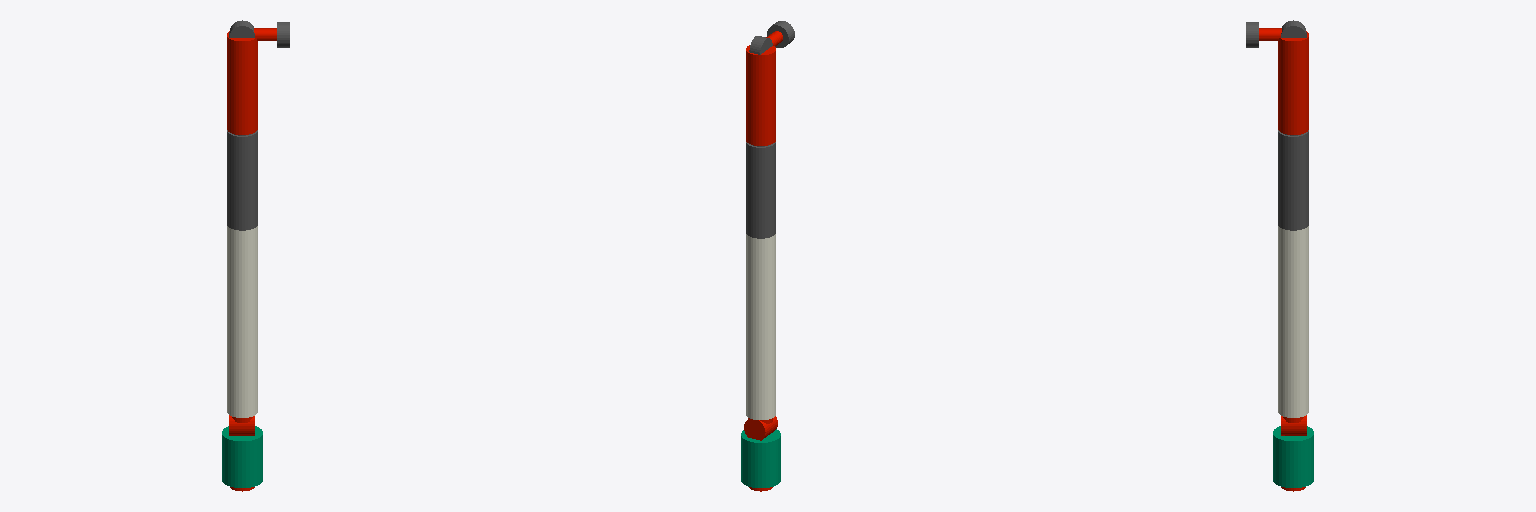
The robot description file, URDF, robot "prosthetic":
<?xml version="1.0" encoding="utf-8"?>
<robot name="prosthetic" >



<material name="scarlet">
    <color rgba="0.89 0.13 0.0 1"/>
</material>
<material name="grey">
    <color rgba="0.4 0.4 0.4 1.0"/>
</material>
 <material name="silver">
    <color rgba="0.913725490196 0.913725490196 0.847058823529 1.0"/>
  </material>

 

  <link name="link0">
    <inertial>
      <origin rpy="0 0 0" xyz="0 0 0"/>
       <mass value=".01"/>
       <inertia ixx="0" ixy="0" ixz="0" iyy="0" iyz="0" izz="0"/>
    </inertial>
    <visual>
      <origin rpy="1.5707  0 0" xyz="0 0 0"/>
      <geometry>
        <cylinder radius="0.025" length="0.025"/>
      </geometry>
       <material name="grey"/>
    </visual>
    <collision>
      <origin rpy="1.5707 0 0" xyz="0 0 0"/>
      <geometry>
        <cylinder radius="0.025" length="0.025"/>
      </geometry>
    </collision>
  </link>

  <link name="link1">
    <inertial>
      <origin rpy="0 0 0" xyz="0 0 0"/>
       <mass value=".000000001"/>
       <inertia ixx="0" ixy="0" ixz="0" iyy="0" iyz="0" izz="0"/>
    </inertial>
    <visual>
      <origin rpy="1.5707 0 0" xyz="0 0 0"/>
      <geometry>
       <cylinder radius="0.0125" length="0.08"/>
       <!-- <box size = "0.025 0.08 0.025"/> -->
      </geometry>
       <material name="scarlet"/> 
    </visual>
    <collision>
      <origin rpy="1.5707 0 0" xyz="0 0 0"/>
      <geometry>
       <cylinder radius="0.0125" length="0.08"/>
      </geometry>
    </collision>
  </link>

  <joint name="joint1" type="revolute"> 
    <parent link="link0"/>
    <child link="link1"/>
    <origin rpy="0 0 0" xyz="0 0.04 0.0"/>  
    <axis xyz="0 1 0"/>
    <limit lower="-3.1415" upper="3.1415" effort="1.4" velocity="0.25"/>
  </joint>

  <link name="left_jlink1">
    <inertial>
      <origin rpy="0 0 0" xyz="0 0 0"/>
       <mass value=".01"/>
       <inertia ixx="0" ixy="0" ixz="0" iyy="0" iyz="0" izz="0"/>
    </inertial>
    <visual>
      <origin rpy="0 1.5707 0" xyz="0 0 0"/>
      <geometry>
        <cylinder radius="0.025" length="0.025"/>
      </geometry>
       <material name="grey"/>
    </visual>
    <collision>
      <origin rpy="0 1.5707 0" xyz="0 0 0"/>
      <geometry>
        <cylinder radius="0.025" length="0.025"/>
      </geometry>
    </collision>
</link>

  <joint name="joint2" type="revolute">
    <parent link="link1"/>
    <child link="left_jlink1"/>
    <origin rpy="0 0 0" xyz="0 0.04 0"/> 
    <axis xyz="1 0 0"/>
    <limit lower="-3.1415" upper="3.1415" effort="1.4" velocity="0.25"/>  
  </joint>

  <link name="link2">
    <inertial>
      <origin rpy="0 0 0" xyz="0 0 0"/>
       <mass value=".000000001"/>
       <inertia ixx="0" ixy="0" ixz="0" iyy="0" iyz="0" izz="0"/>
    </inertial>
    <visual>
      <origin rpy="0 0 0" xyz="0 0 0"/>
      <geometry>
       <cylinder radius="0.03" length="0.2"/>
      </geometry>
       <material name="scarlet"/> 
    </visual>
    <collision>
      <origin rpy="0 0 0" xyz="0 0 0"/>
      <geometry>
       <cylinder radius="0.03" length="0.2"/>
      </geometry>
    </collision>
</link>

<joint name="left_joint2f" type="fixed">
    <parent link="left_jlink1"/>
    <child link="link2"/>
    <origin rpy="0 0 0" xyz="0 0  -0.1"/> 
     
</joint>

<link name="left_jlink2">
    <inertial>
      <origin rpy="0 0 0" xyz="0 0 0"/>
       <mass value=".01"/>
       <inertia ixx="0" ixy="0" ixz="0" iyy="0" iyz="0" izz="0"/>
    </inertial>
    <visual>
      <origin rpy="0 0 0" xyz="0 0 0"/>
      <geometry>
        <cylinder radius="0.025" length="0.025"/>
      </geometry>
       <material name="grey"/>
    </visual>
    <collision>
      <origin rpy="0 0 0" xyz="0 0 0"/>
      <geometry>
        <cylinder radius="0.025" length="0.025"/>
      </geometry>
    </collision>
</link>

<joint name="left_joint2" type="fixed">
    <parent link="link2"/>
    <child link="left_jlink2"/>
    <origin rpy="0 0 0" xyz="0 0 -0.1"/> 
     
  </joint>

  <link name="link3">
    <inertial>
      <origin rpy="0 0 0" xyz="0 0 0"/>
       <mass value=".000000001"/>
       <inertia ixx="0" ixy="0" ixz="0" iyy="0" iyz="0" izz="0"/>
    </inertial>
    <visual>
      <origin rpy="0 0 0" xyz="0 0 0"/>
      <geometry>
       <cylinder radius="0.03" length="0.2"/>
      </geometry>
       <material name="grey"/> 
    </visual>
    <collision>
      <origin rpy="0 0 0" xyz="0 0 0"/>
      <geometry>
       <cylinder radius="0.03" length="0.2"/>
      </geometry>
    </collision>
</link>

<joint name="left_joint3f" type="fixed">
    <parent link="left_jlink2"/>
    <child link="link3"/>
    <origin rpy="0 0 0" xyz="0 0  -0.1035"/>   
</joint>

<link name="left_jlink3">
    <inertial>
      <origin rpy="0 0 0" xyz="0 0 0"/>
       <mass value=".01"/>
       <inertia ixx="0" ixy="0" ixz="0" iyy="0" iyz="0" izz="0"/>
    </inertial>
    <visual>
      <origin rpy="0 1.5707 0" xyz="0 0 0"/>
      <geometry>
        <cylinder radius="0.025" length="0.025"/>
      </geometry>
       <material name="scarlet"/>
    </visual>
    <collision>
      <origin rpy="0 1.5707 0" xyz="0 0 0"/>
      <geometry>
        <cylinder radius="0.025" length="0.025"/>
      </geometry>
    </collision>
</link>

<joint name="joint3" type="revolute">
    <parent link="link3"/>
    <child link="left_jlink3"/>
    <origin rpy="0 0 0" xyz="0 0.0 -0.1"/> 
    <axis xyz="1 0 0"/>
    <limit lower="-3.1415" upper="3.1415" effort="1.4" velocity="0.25"/>  
  </joint>

  <link name="link4">
    <inertial>
      <origin rpy="0 0 0" xyz="0 0 0"/>
       <mass value=".000000001"/>
       <inertia ixx="0" ixy="0" ixz="0" iyy="0" iyz="0" izz="0"/>
    </inertial>
    <visual>
      <origin rpy="0 0 0" xyz="0 0 0"/>
      <geometry>
       <cylinder radius="0.03" length="0.4"/>
      </geometry>
       <material name="silver"/> 
    </visual>
    <collision>
      <origin rpy="0 0 0" xyz="0 0 0"/>
      <geometry>
       <cylinder radius="0.03" length="0.4"/>
      </geometry>
    </collision>
</link>

<joint name="left_joint4f" type="fixed">
    <parent link="left_jlink3"/>
    <child link="link4"/>
    <origin rpy="0 0 0" xyz="0 0  -0.2"/>   
</joint>

<link name="left_jlink4">
    <inertial>
      <origin rpy="0 0 0" xyz="0.107996 0.000521 -0.017765"/>
      <mass value="0.550582"/>
      <inertia ixx="0.000476" ixy="-2.9e-05" ixz="0.001403" iyy="0.009564" iyz="-1.5e-05" izz="-9e-06"/>
    </inertial>
    <visual>
      <origin rpy="0 0 0 " xyz="0 0 0"/>
      <geometry>
        <cylinder radius="0.025" length="0.025"/>
      </geometry>
      <material name="scarlet"/> 
    </visual>
    <collision>
      <origin rpy="0 0 0" xyz="0 0 0"/>
      <geometry>
        <cylinder radius="0.025" length="0.025"/>
      </geometry>
    </collision>
</link>

<joint name="joint4" type="revolute">
    <origin rpy="0 0 0" xyz="0.0 0.0 -0.2"/>
    <parent link="link4"/>
    <child link="left_jlink4"/>
    <axis xyz="0 0 1"/>
    <limit effort="1.4" lower="-1.57" upper="1.57" velocity="10"/>
  </joint>

<link name="link5">
    <inertial>
      <origin rpy="0 0 0" xyz="0.107996 0.000521 -0.017765"/>
      <mass value="0.550582"/>
      <inertia ixx="0.000476" ixy="-2.9e-05" ixz="0.001403" iyy="0.009564" iyz="-1.5e-05" izz="-9e-06"/>
    </inertial>
    <visual>
      <origin rpy="0 1.5707 1.5707 " xyz="0 0 0"/>
      <geometry>
        <cylinder radius="0.025" length="0.05"/>
      </geometry>
      <material name="scarlet"/> 
    </visual>
    <collision>
      <origin rpy="0 1.5707 1.5707" xyz="0 0 0"/>
      <geometry>
        <cylinder radius="0.025" length="0.05"/>
      </geometry>
    </collision>
  </link>
  <joint name="joint5" type="revolute">
    <origin rpy="0 1.5707 0" xyz="0.0 0.0 -0.025"/>
    <parent link="left_jlink4"/>
    <child link="link5"/>
    <axis xyz="0 1 0"/>
    <limit effort="1.4" lower="-1.57" upper="1.57" velocity="10"/>
  </joint>

  <link name="link6">
    <inertial>
      <origin rpy="0 0 0" xyz="0 0 0"/>
      <mass value="0.2"/>
      <inertia ixx="0.0001" ixy="0" ixz="0" iyy="0.0001" iyz="0" izz="0.0001"/>
    </inertial>
    <visual>
      <origin rpy="0 1.5707 0" xyz="0 0 0"/>
      <geometry> 
        <cylinder radius="0.04" length="0.1"/>
      </geometry>
      <material name="Light_Grey"/>
    </visual>
    <collision>
      <origin rpy="0 1.5707 0" xyz="0 0 0"/>
      <geometry> 
       <cylinder radius="0.04" length="0.1"/>
      </geometry>
      <material name="Light_Grey"/>
    </collision>
  </link>

  <joint name="joint6" type="revolute">
    <origin rpy="0 0 0" xyz="0.07 0 0"/>
    <parent link="link5"/>
    <child link="link6"/>
    <axis xyz="1 0 0"/>
    <limit effort="1.4" lower="-1.57" upper="1.57" velocity="10"/>
  </joint>

  <link name="link7">
    <inertial>
      <origin rpy="0 0 0" xyz="0 0 0"/>
      <mass value="0.2"/>
      <inertia ixx="0.0001" ixy="0" ixz="0" iyy="0.0001" iyz="0" izz="0.0001"/>
    </inertial>
    <visual>
      <origin rpy="0 1.5707 0" xyz="0 0 0"/>
      <geometry>        
       <cylinder radius="0.025" length="0.025"/>
      </geometry>
      <material name="scarlet"/>
    </visual>
    <collision>
      <origin rpy="0 1.5707 0" xyz="0 0 0"/>
      <geometry>
       <cylinder radius="0.025" length="0.025"/>
      </geometry> 
    </collision>
  </link>
  <joint name="ee_to_gripper_base" type="fixed">
    <origin rpy="0 0 0" xyz="0.05125 0.0 0"/>
    <parent link="link6"/>
    <child link="link7"/>
  </joint>

   



  


</robot>

--- Render facts (derived) ---
Views: 3 orthographic renders of the robot side by side, from view 1: azimuth 90°, elevation 25°; view 2: azimuth 150°, elevation 25°; view 3: azimuth 270°, elevation 25°.
Robot: prosthetic — 12 links, 11 joints (6 revolute, 5 fixed); root link link0; default pose: every joint at zero.
Visible links, largest first — view 1: link4, link2, link3, link6; view 2: link4, link2, link3, link6, link5; view 3: link4, link2, link3, link6.
Link boxes in pixels (box(x1,y1,x2,y2)): link4: box(227, 226, 257, 417); link2: box(227, 31, 257, 134); link3: box(227, 130, 257, 230); link6: box(222, 426, 262, 487); link4: box(746, 234, 775, 419); link2: box(746, 45, 775, 145); link3: box(746, 142, 775, 238); link6: box(741, 429, 780, 487); link5: box(744, 416, 777, 440); link4: box(1278, 226, 1308, 417); link2: box(1278, 31, 1308, 134); link3: box(1278, 130, 1308, 230); link6: box(1273, 426, 1313, 487).
Bounding box of the posed robot: 0.08 × 0.1325 × 0.9873 m (x, y, z).
Geometry: primitives only (box / cylinder / sphere), no mesh files.